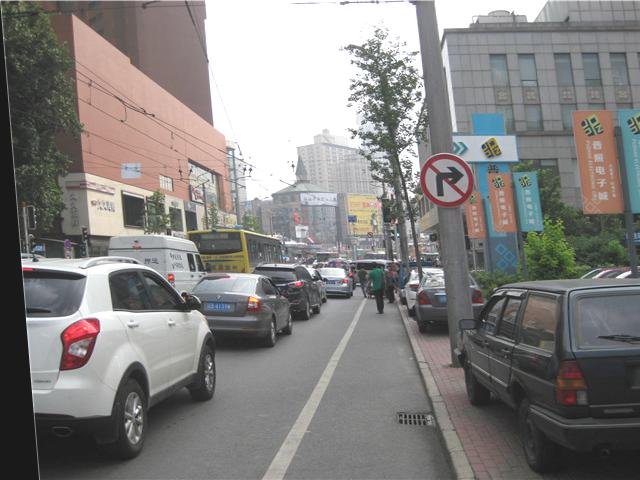not_turn_right: (413, 152, 472, 206)
